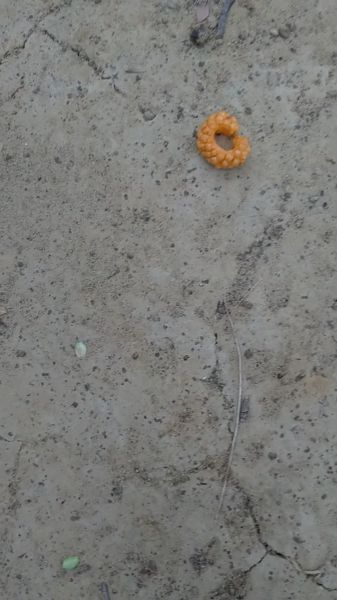eggs: (195, 111, 254, 172)
